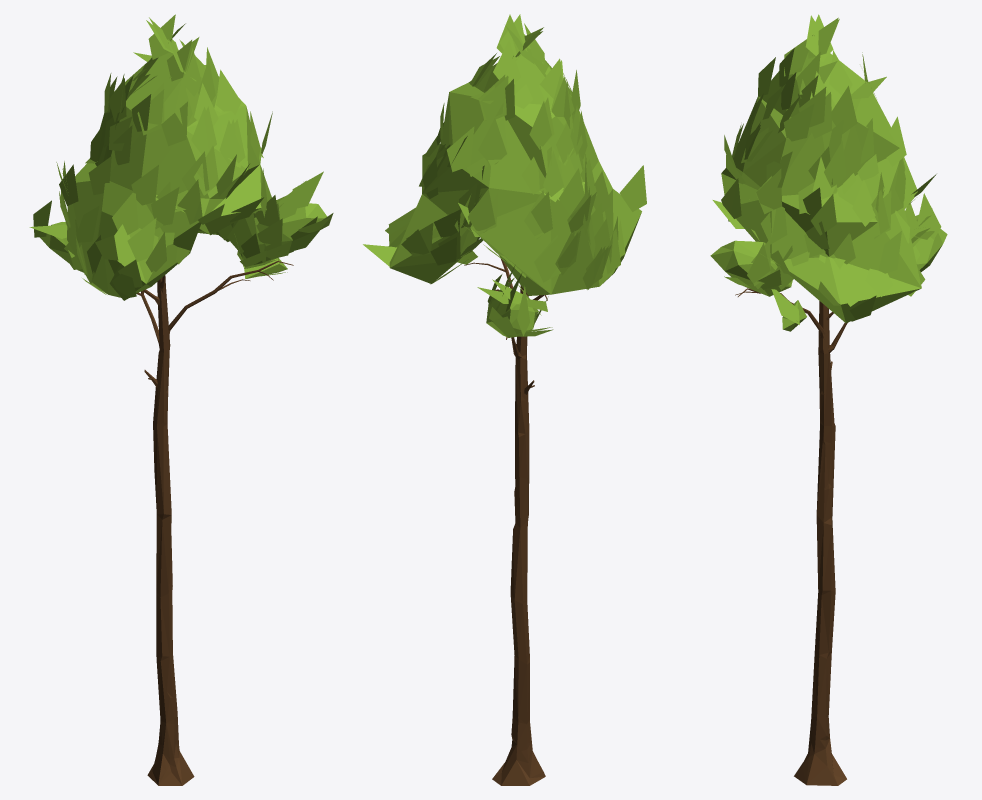
File: tree-birch-mature-b.gltf
The picture shows the model from 3 angles, left to right: view 1: azimuth 30°, elevation 25°; view 2: azimuth 150°, elevation 25°; view 3: azimuth 270°, elevation 25°; orthographic projection.
Parts seen in each view (by area): view 1: tree-birch-mature-b; view 2: tree-birch-mature-b; view 3: tree-birch-mature-b.
Part boxes in pixels (box(x1,y1,x2,y2)): tree-birch-mature-b: box(29, 14, 333, 785); tree-birch-mature-b: box(363, 14, 646, 785); tree-birch-mature-b: box(710, 14, 947, 785).
Bounding box in the file's own units: 0.0385 × 0.1153 × 0.0388.
